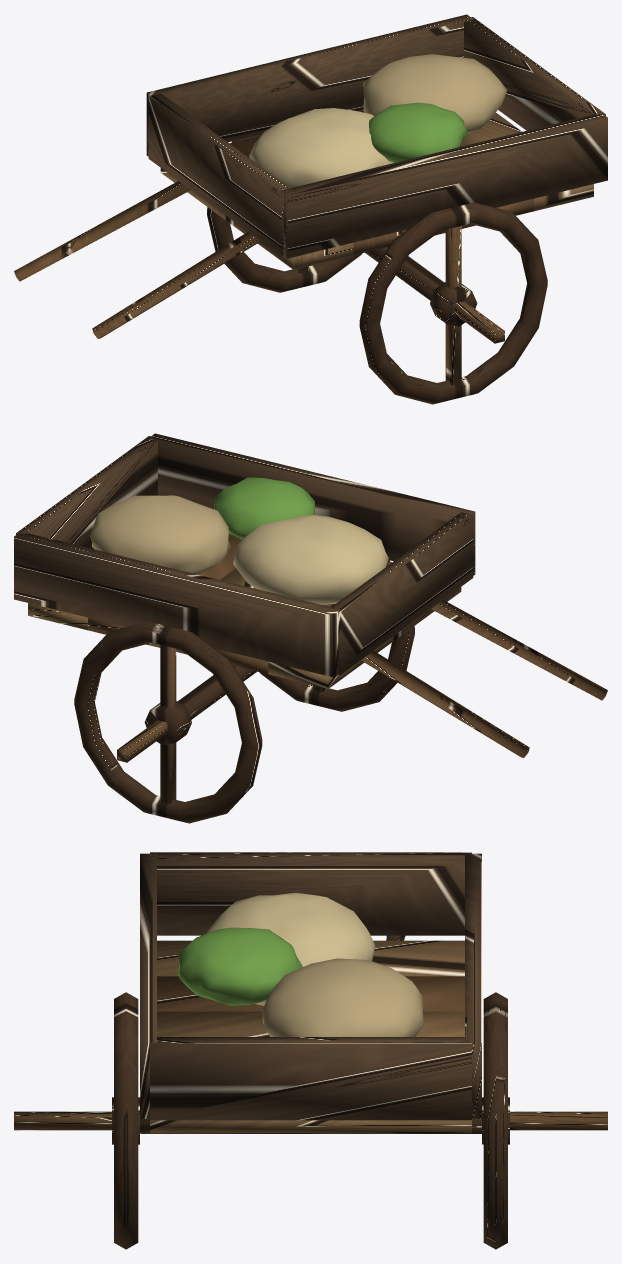
File: cart.glb
3 views of the same model, one above another, from view 1: azimuth 30°, elevation 25°; view 2: azimuth 150°, elevation 25°; view 3: azimuth 270°, elevation 25° (orthographic). The views are drawn at different scales.
Visible parts, largest first — view 1: geometry_2, geometry_4, geometry_3, geometry_1, geometry_0; view 2: geometry_2, geometry_4, geometry_3, geometry_1, geometry_0; view 3: geometry_2, geometry_4, geometry_3, geometry_0, geometry_1.
Part boxes in pixels (bbox=[...]): geometry_2: bbox=[146, 14, 607, 258]; geometry_4: bbox=[249, 54, 507, 187]; geometry_3: bbox=[207, 109, 547, 404]; geometry_1: bbox=[14, 110, 533, 385]; geometry_0: bbox=[160, 113, 593, 269]; geometry_2: bbox=[14, 433, 475, 677]; geometry_4: bbox=[89, 477, 388, 604]; geometry_3: bbox=[74, 560, 414, 823]; geometry_1: bbox=[88, 534, 607, 804]; geometry_0: bbox=[28, 568, 461, 688]; geometry_2: bbox=[140, 852, 481, 1120]; geometry_4: bbox=[177, 892, 423, 1036]; geometry_3: bbox=[112, 992, 509, 1249]; geometry_0: bbox=[150, 940, 471, 1133]; geometry_1: bbox=[14, 935, 607, 1130].
Bounding box in the file's own units: 2.42 × 1.2 × 2.12.
Materials: 5 (4 with a texture image).
